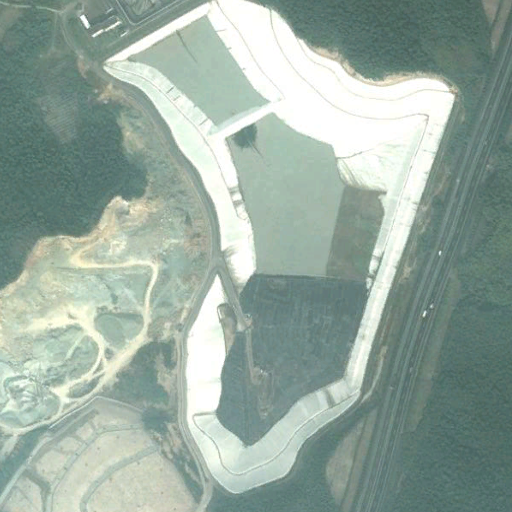lf: (100, 3, 456, 496)
